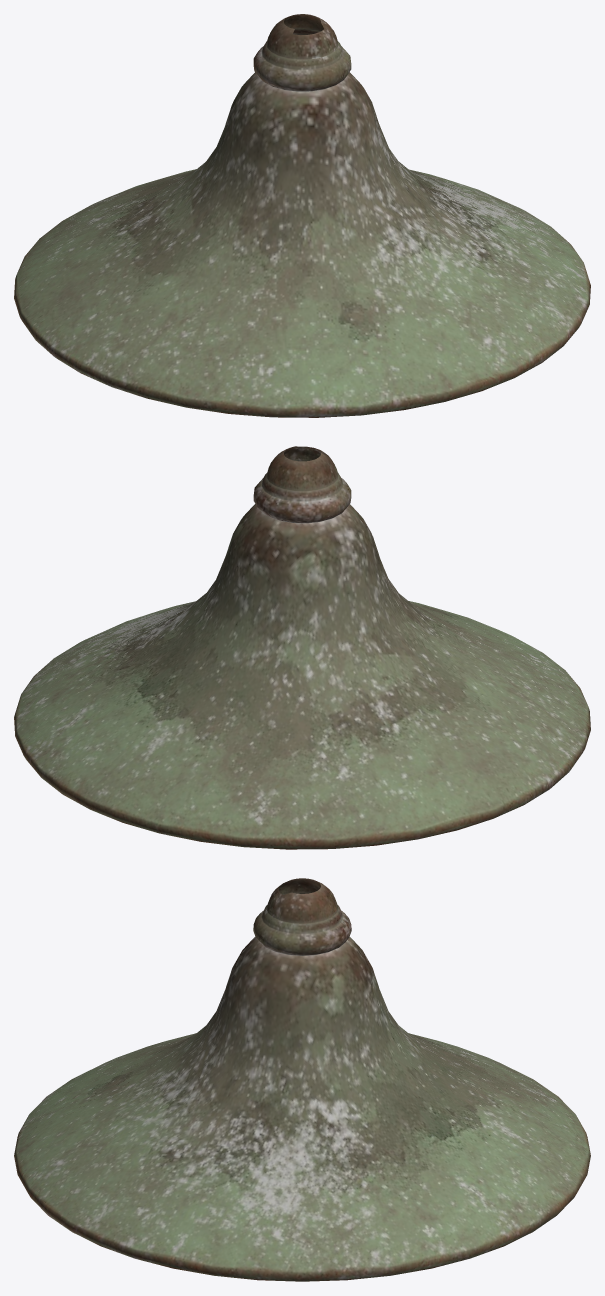
The model's file is Focoizq.obj.
3 views of the same model, one above another, from view 1: azimuth 30°, elevation 25°; view 2: azimuth 150°, elevation 25°; view 3: azimuth 270°, elevation 25° (orthographic).
Visible parts, largest first — view 1: defaultMaterial.004; view 2: defaultMaterial.004; view 3: defaultMaterial.004.
Boxes of the visible parts, x1,y1,x2,y2 form: defaultMaterial.004: [14, 14, 590, 417]; defaultMaterial.004: [14, 446, 590, 849]; defaultMaterial.004: [14, 878, 590, 1281].
Size of the model in its own units: 1.54 by 0.8119 by 1.54.
